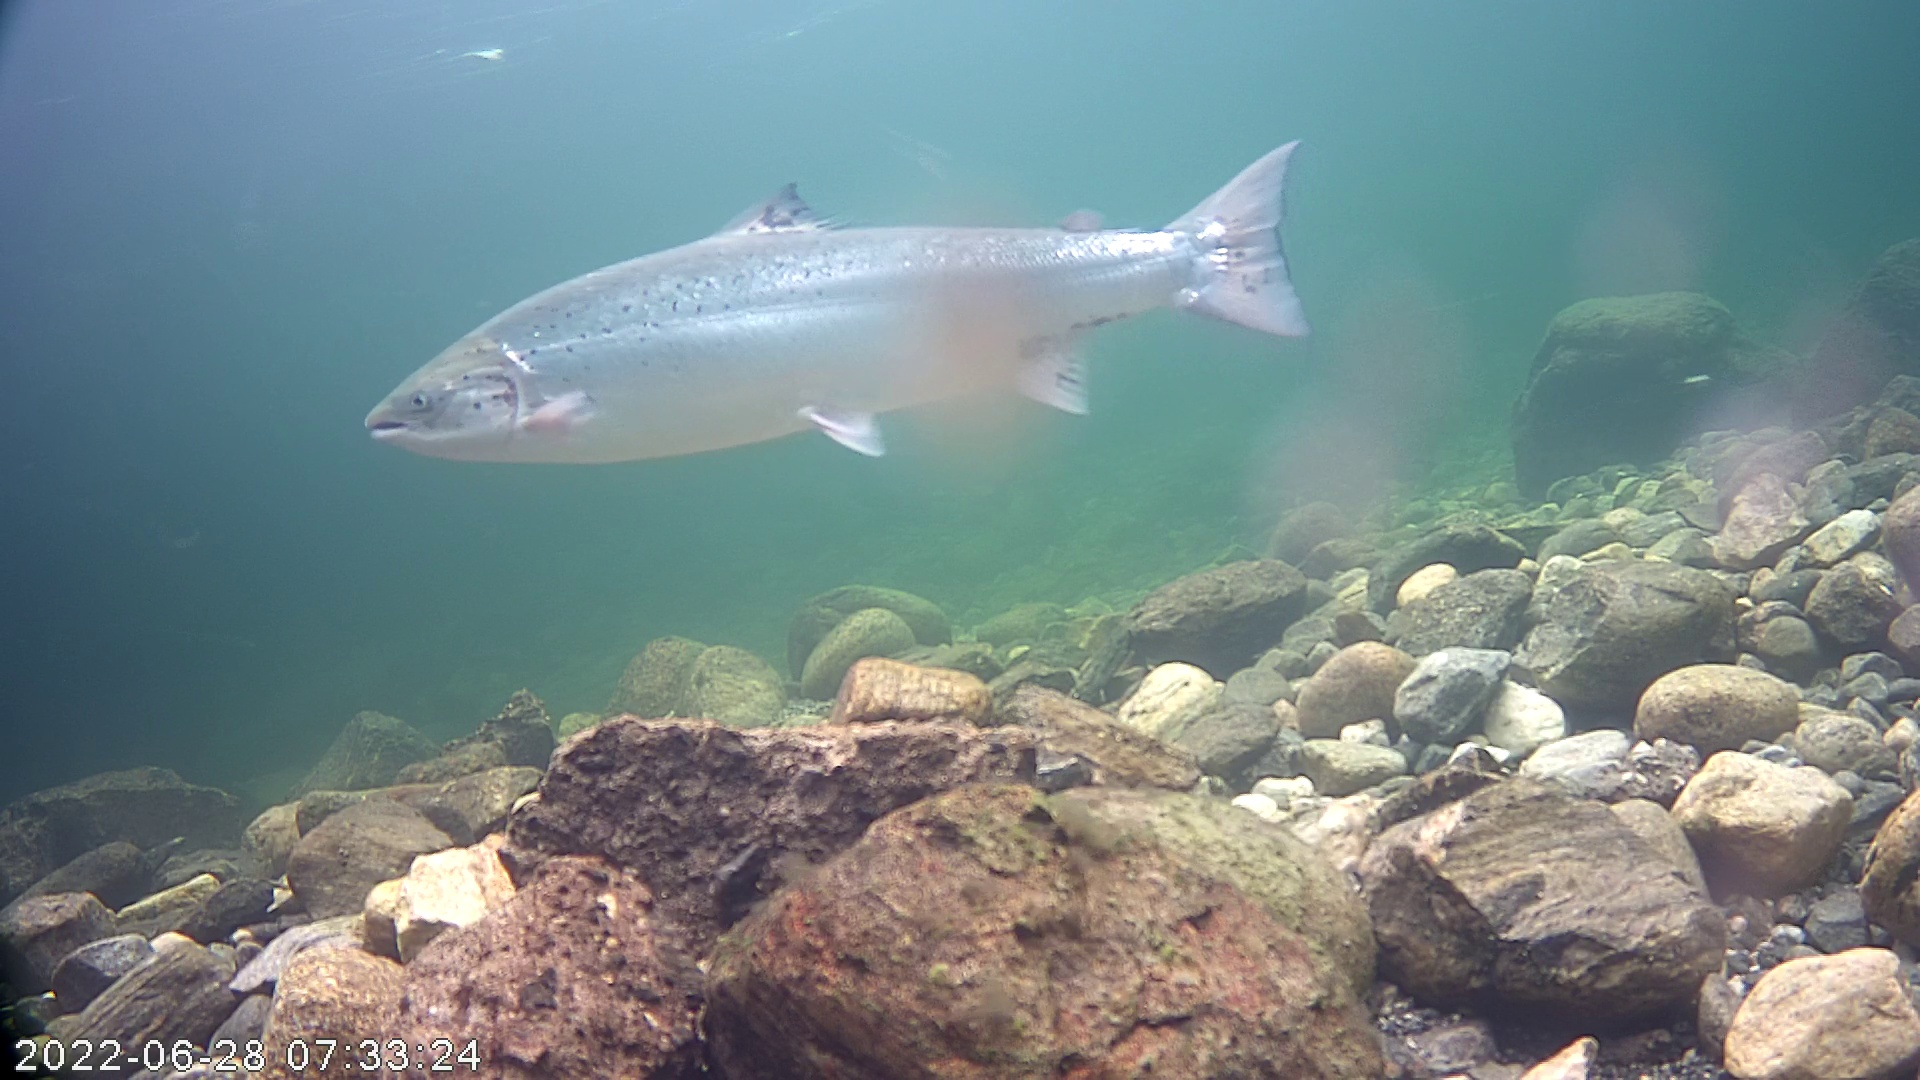salmon: (344, 107, 1348, 520)
